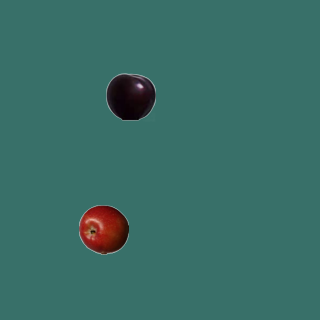Apple Braeburn: (78, 204, 128, 254)
Cherry Wax Black: (105, 71, 155, 121)
